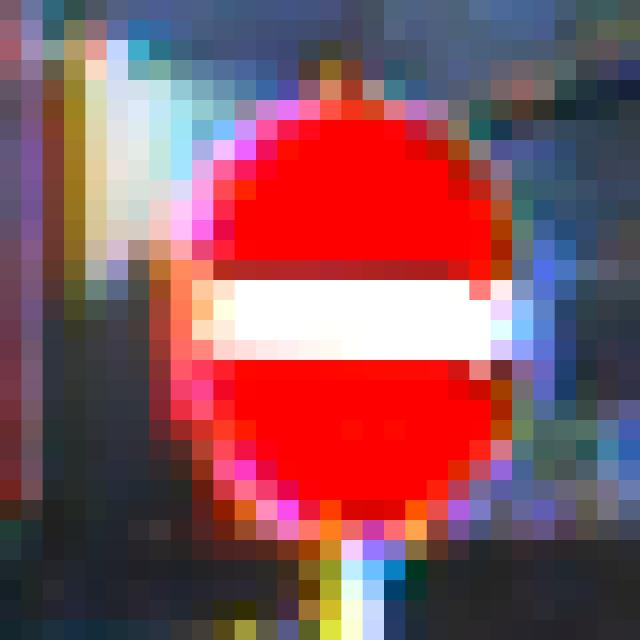No Entry: (129, 101, 534, 541)
